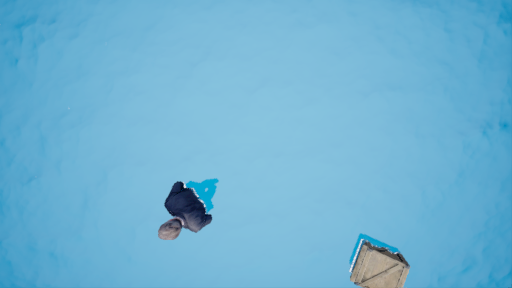person: (140, 177, 237, 243)
